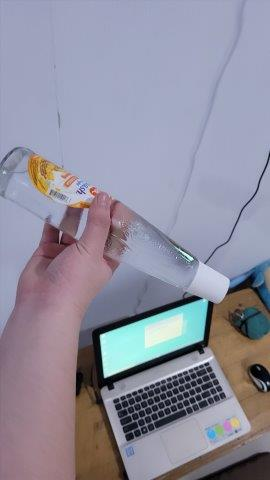botolkaca: (1, 150, 226, 298)
